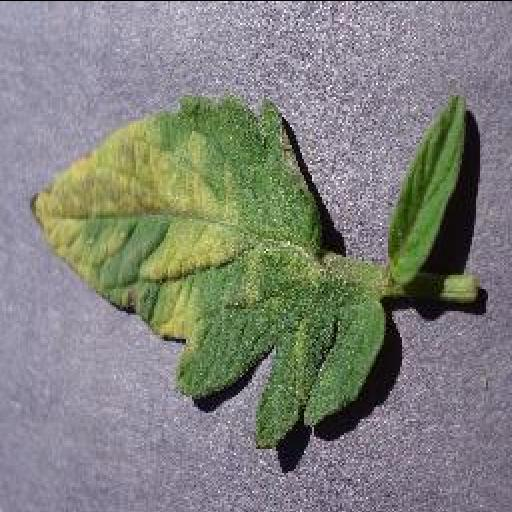disease_tomato: (32, 96, 388, 445)
